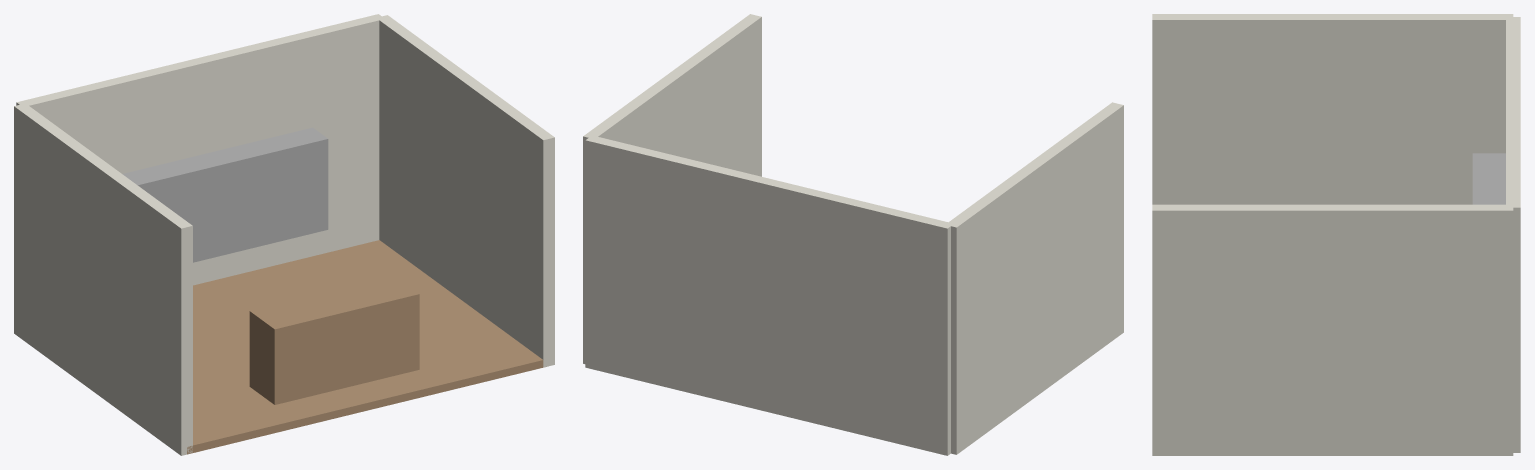
File: storefront_small.glb
3 renders of one model, left to right at view 1: azimuth 30°, elevation 25°; view 2: azimuth 150°, elevation 25°; view 3: azimuth 270°, elevation 25°, orthographic. The views are drawn at different scales.
Parts seen in each view (by area): view 1: left, right, back, floor, shelf, counter; view 2: back, left, right; view 3: right, left, back, shelf.
Boxes of the visible parts, <box> form: left: <box>14,105,192,455</box>; right: <box>378,15,554,367</box>; back: <box>16,14,384,285</box>; floor: <box>187,240,543,454</box>; shelf: <box>122,127,328,262</box>; counter: <box>249,275,419,404</box>; back: <box>585,135,953,455</box>; left: <box>948,102,1123,454</box>; right: <box>583,14,761,363</box>; right: <box>1152,204,1513,455</box>; left: <box>1152,14,1513,204</box>; back: <box>1506,17,1520,452</box>; shelf: <box>1472,153,1505,204</box>.
Size of the model in its own units: 5.16 by 3 by 4.08.
